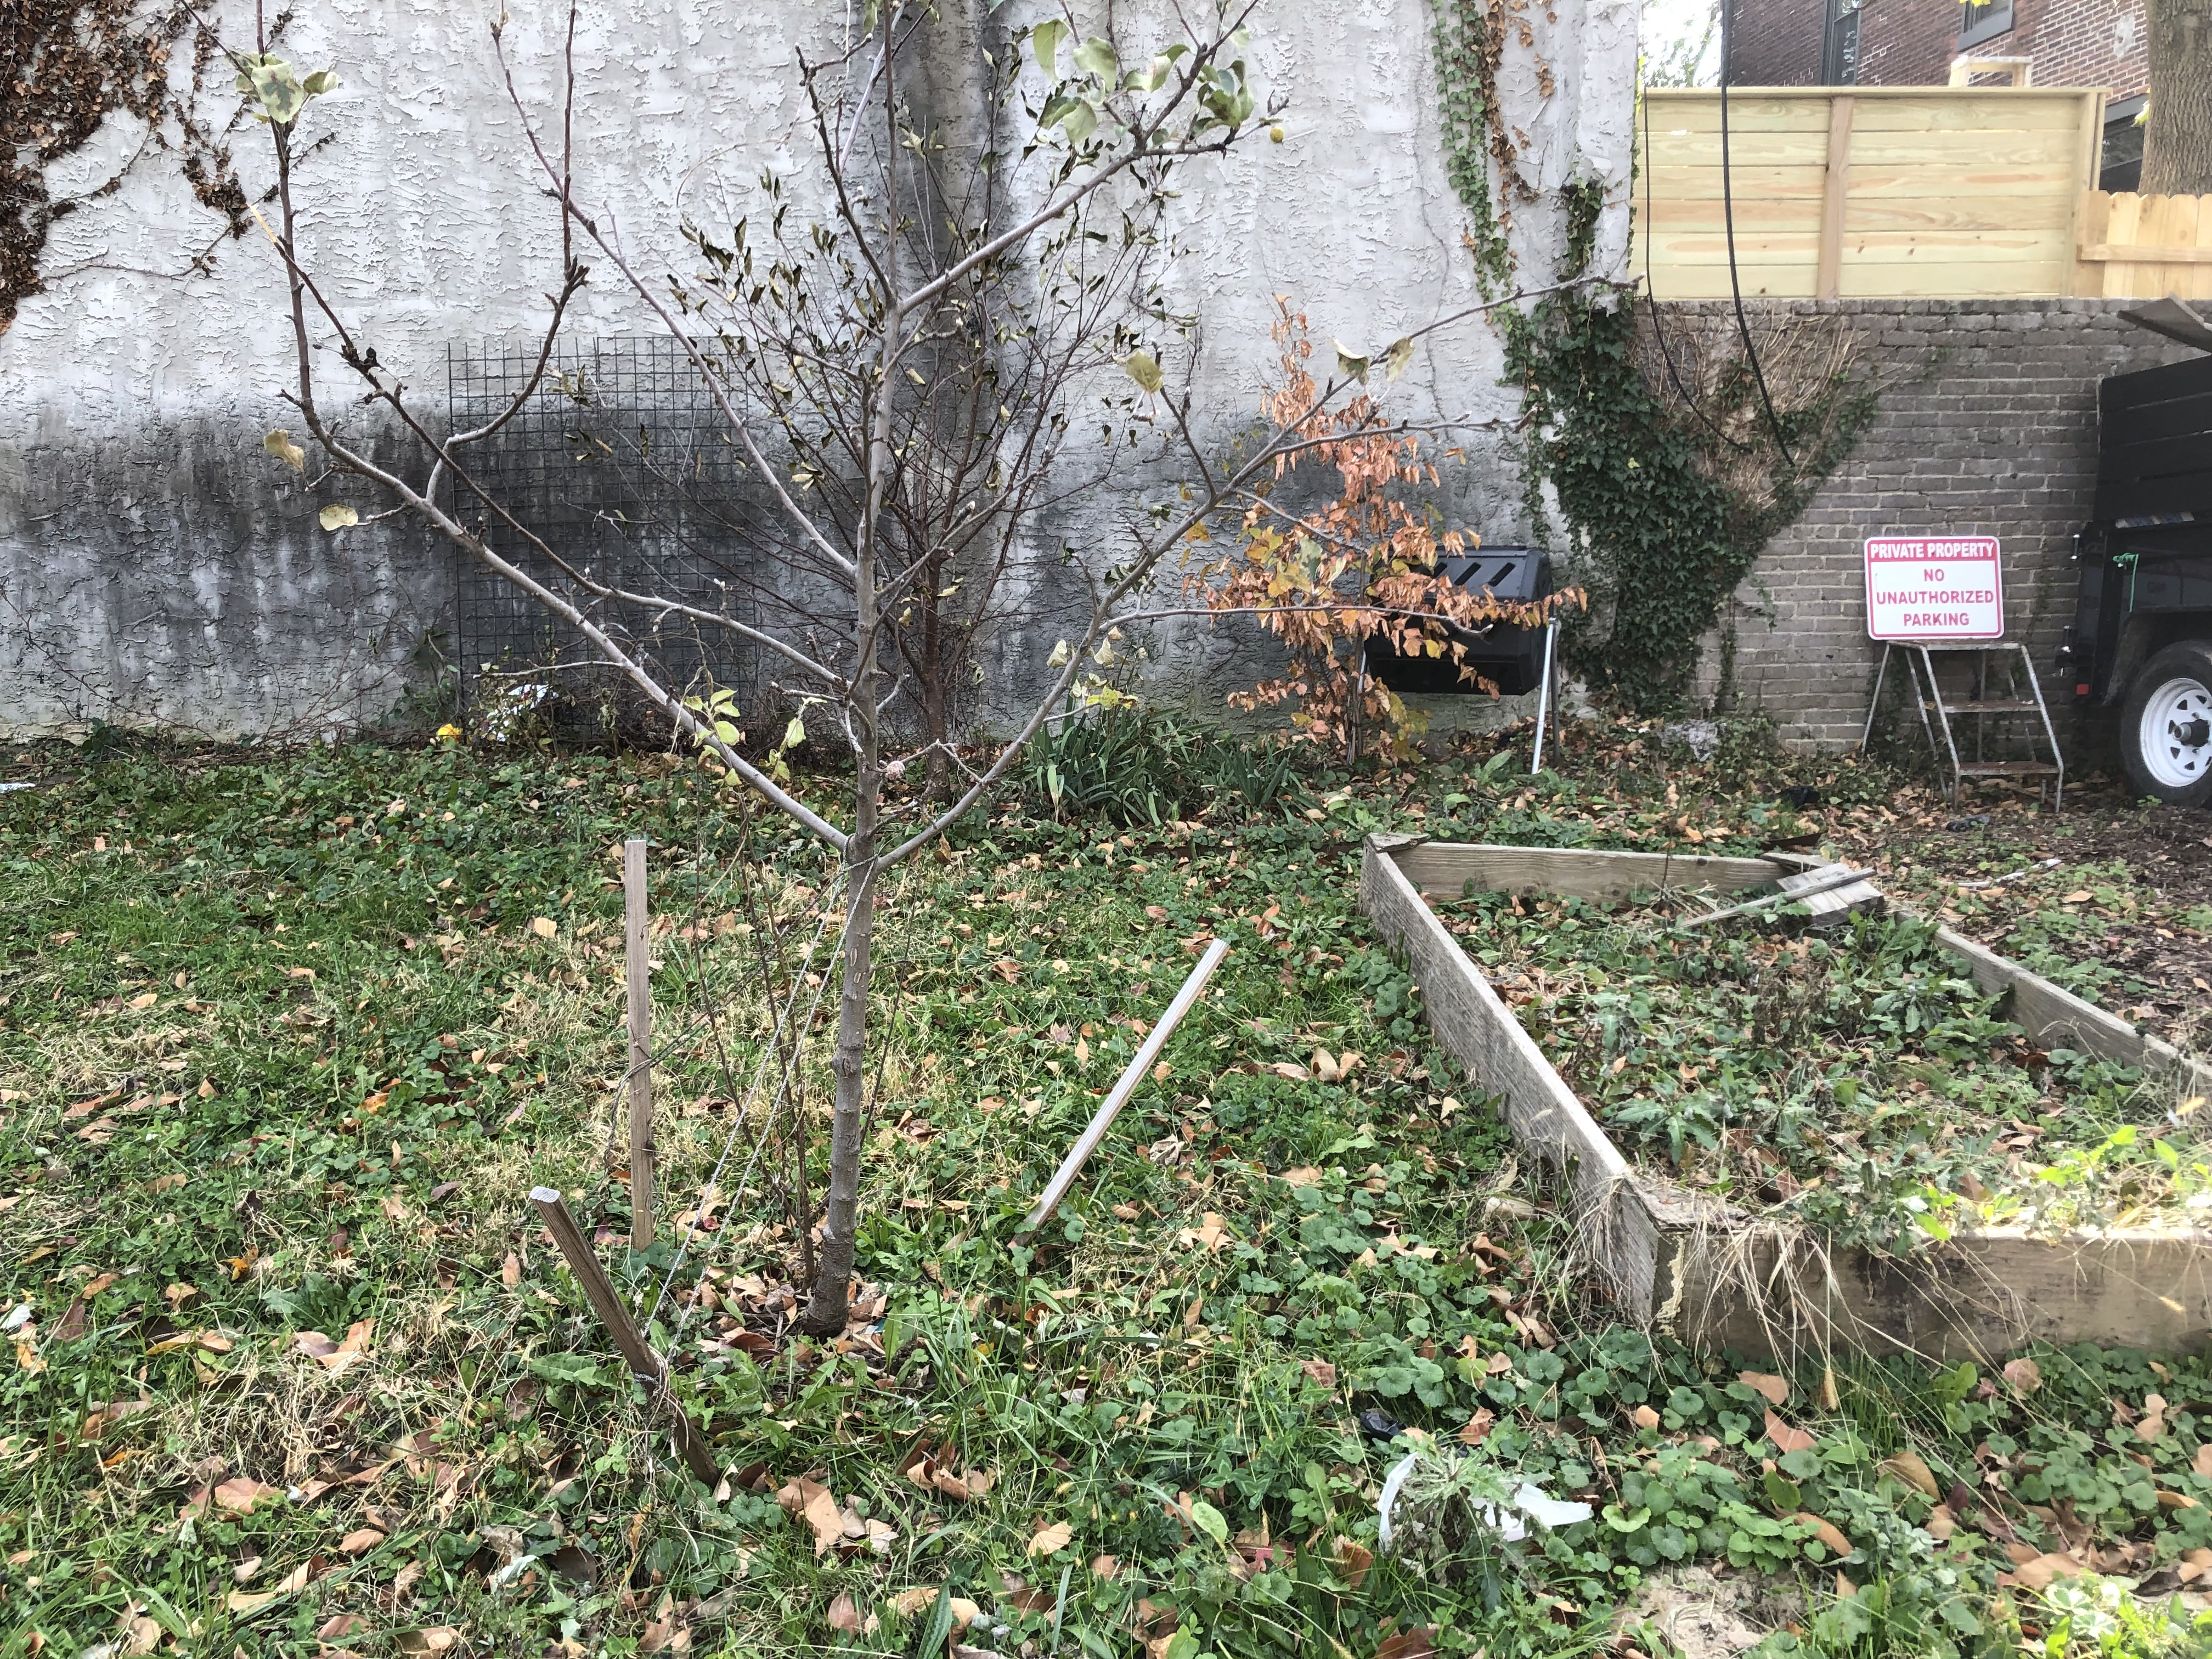good_lawn: (21, 796, 617, 1490)
raised_bed: (1268, 807, 2212, 1385)
trash: (1343, 1443, 1649, 1628)
